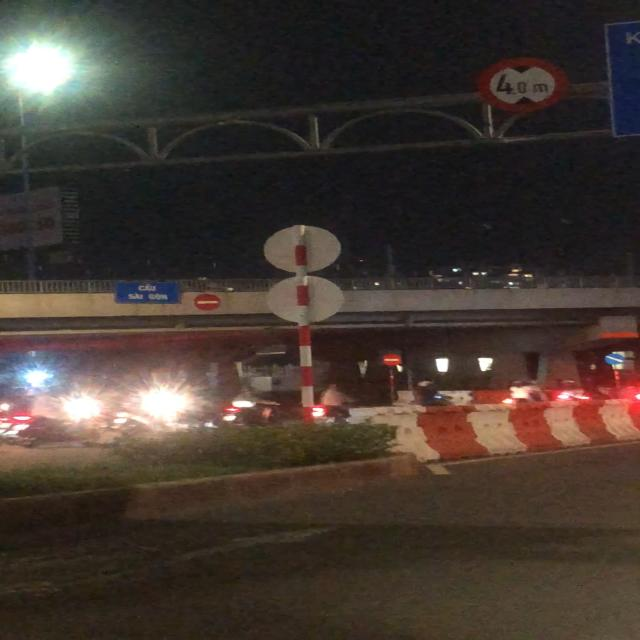Bien bao cam di nguoc chieu: (191, 292, 224, 311), (382, 352, 403, 366)
Bien bao huong phai di vong chuong ngai vat: (604, 352, 626, 366)
